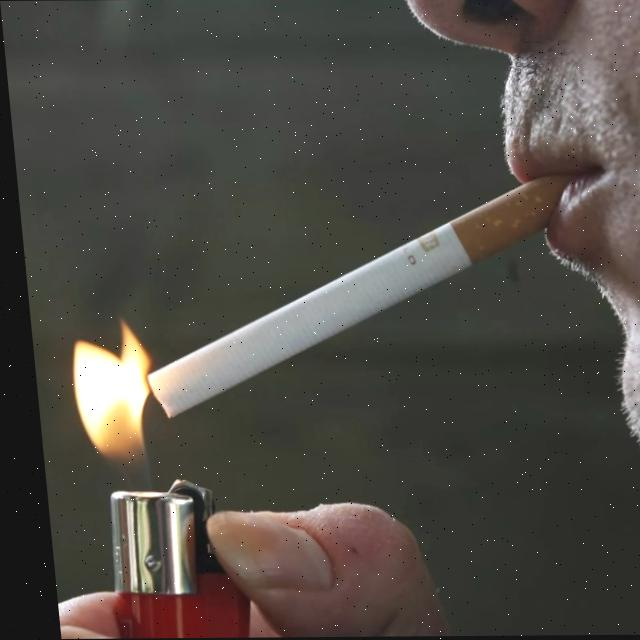cigarette: (124, 175, 572, 419)
